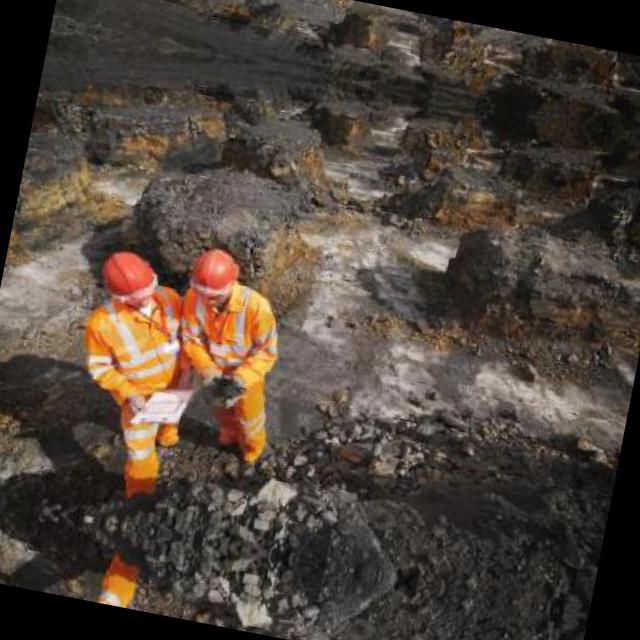helmet: (92, 245, 163, 311), (184, 243, 244, 306)
